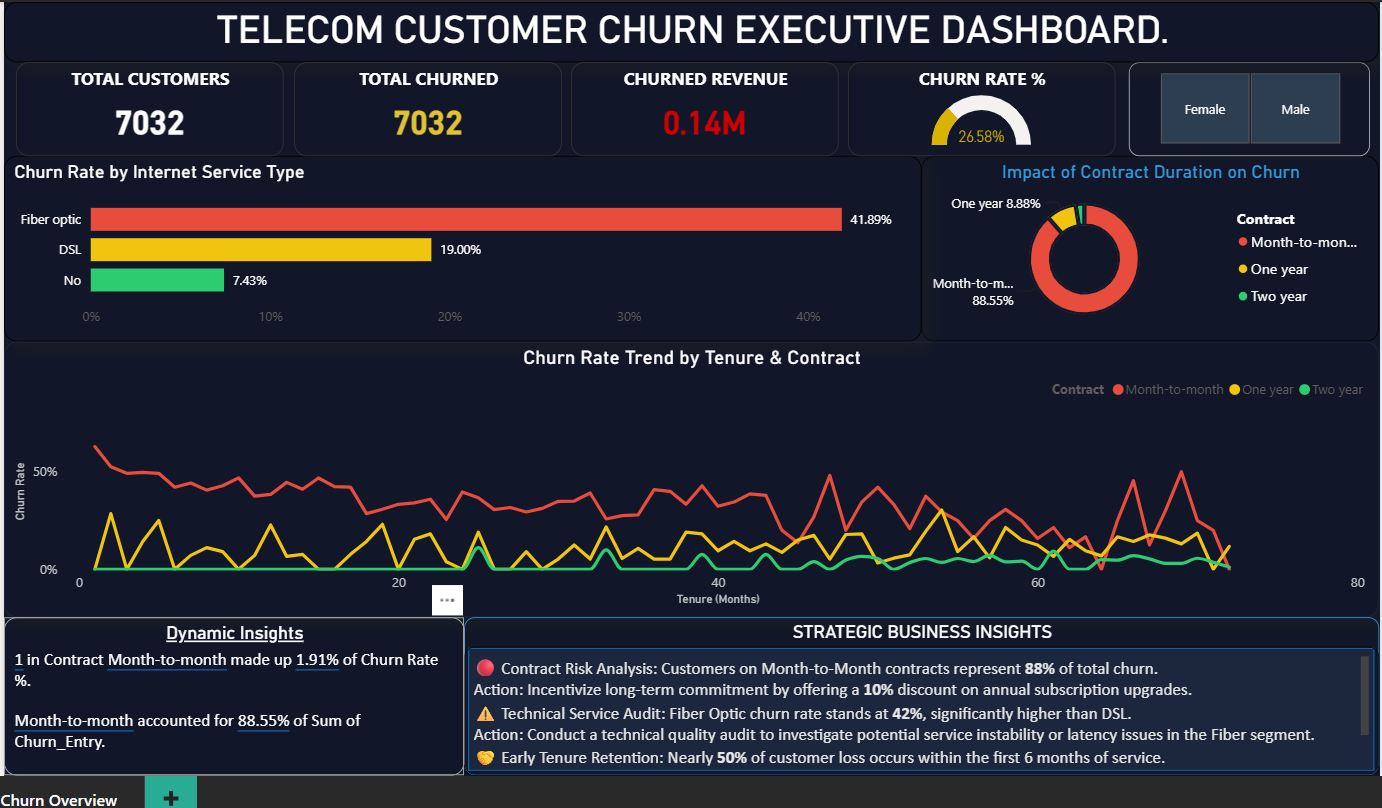

The dashboard page shown, as its layout file describes it:
{"tool":"powerbi","page":{"name":"Churn Overview","canvas":[1280,720],"ordinal":0},"visuals":[{"type":"donutChart","title":"Impact of  Contract Duration on Churn","fields":{"Category":["Churn_Final.Contract"],"Y":["Sum(Churn_Final.Churn_Entry)"]},"box":[853.8,143.1,425.7,173],"z":0},{"type":"clusteredBarChart","title":"Churn Rate by Internet Service Type","fields":{"Category":["Churn_Final.InternetService"],"Y":["Churn_Final.Churn Rate %"]},"box":[0,143.1,853.8,173],"z":1000},{"type":"slicer","fields":{"Values":["Churn_Final.gender"]},"box":[1046.7,56,224,87.1],"z":2000},{"type":"lineChart","title":"Churn Rate Trend by Tenure & Contract","fields":{"Category":["Churn_Final.tenure"],"Y":["Churn_Final.Churn Rate %"],"Series":["Churn_Final.Contract"]},"box":[0,316.1,1279.4,256.4],"z":3000},{"type":"textbox","title":"TELECOM CUSTOMER CHURN EXECUTIVE DASHBOARD.","box":[0,0,1279.4,56],"z":4000},{"type":"shape","title":"STRATEGIC BUSINESS INSIGHTS","box":[428.3,572.7,851.4,147],"z":5000},{"type":"textbox","box":[428.3,599.6,851.4,120.2],"z":6000},{"type":"textbox","title":"Dynamic Insights","box":[0,572.7,428.3,147],"z":7000},{"type":"gauge","title":"CHURN RATE %","fields":{"Y":["Churn_Final.Churn Rate %"]},"box":[785.3,56,248.9,87.1],"z":8000},{"type":"card","title":"TOTAL CUSTOMERS","fields":{"Values":["CountNonNull(Churn_Final.customerID)"]},"box":[11.2,56,248.9,87.1],"z":9000},{"type":"card","title":"TOTAL CHURNED","fields":{"Values":["CountNonNull(Churn_Final.Churn Status)"]},"box":[270.1,56,248.9,87.1],"z":10000},{"type":"card","title":"CHURNED REVENUE","fields":{"Values":["Churn_Final.Churned Monthly Revenue"]},"box":[527.7,56,248.9,87.1],"z":11000}]}

Visuals, with their boxes on the page's 1280x720 design canvas (x1, y1, x2, y2). These are canvas units, not pixel positions in the 1382x808 screenshot, which may show the page scaled, cropped or inside an application window:
"Impact of  Contract Duration on Churn" donutChart: 854,143,1280,316
"Churn Rate by Internet Service Type" clusteredBarChart: 0,143,854,316
slicer - Churn_Final.gender: 1047,56,1271,143
"Churn Rate Trend by Tenure & Contract" lineChart: 0,316,1279,572
"TELECOM CUSTOMER CHURN EXECUTIVE DASHBOARD." textbox: 0,0,1279,56
"STRATEGIC BUSINESS INSIGHTS" shape: 428,573,1280,720
textbox: 428,600,1280,720
"Dynamic Insights" textbox: 0,573,428,720
"CHURN RATE %" gauge: 785,56,1034,143
"TOTAL CUSTOMERS" card: 11,56,260,143
"TOTAL CHURNED" card: 270,56,519,143
"CHURNED REVENUE" card: 528,56,777,143
